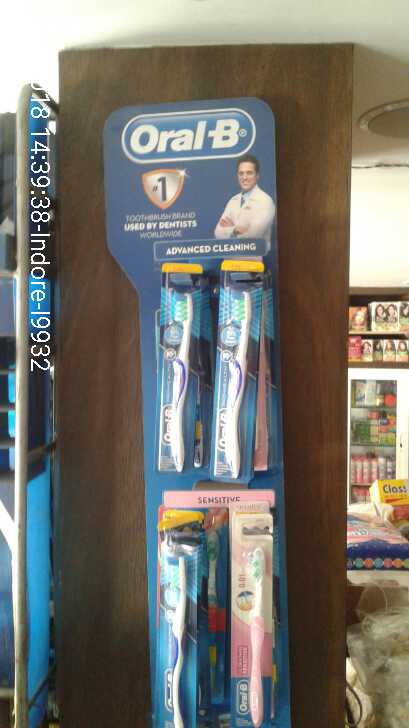oralb: (225, 510, 284, 727), (159, 509, 218, 726), (155, 265, 205, 483), (214, 265, 264, 483)
